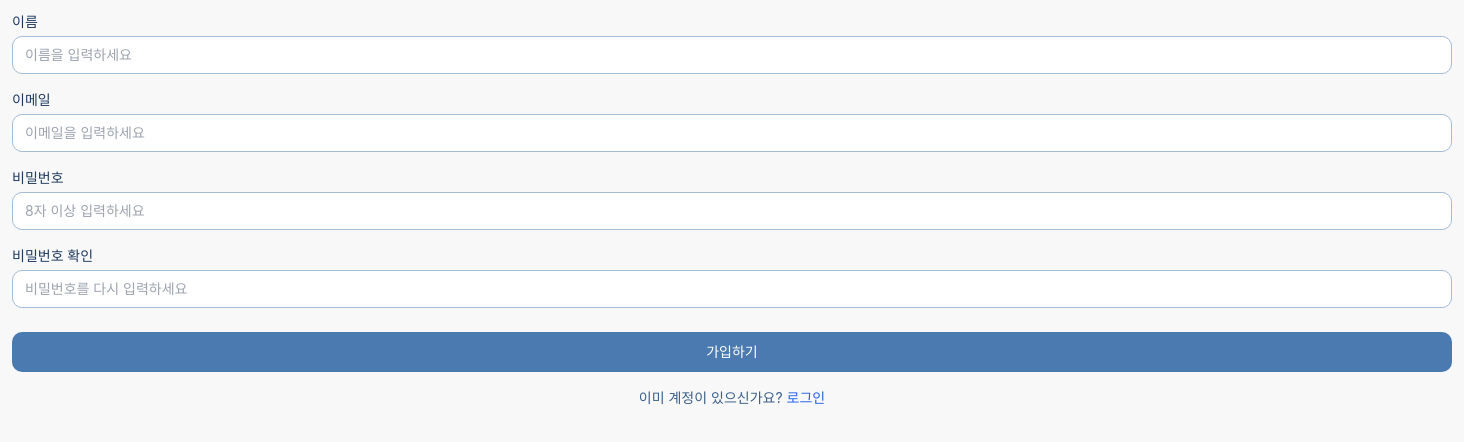
Test: SignupForm › 유효성 검증 › 이메일 형식이 잘못된 경우 오류 메시지를 표시한다
Type "홍길동" into the field labelled "이름".
click(732, 55); type("홍길동")  # box [12, 36, 1452, 74]
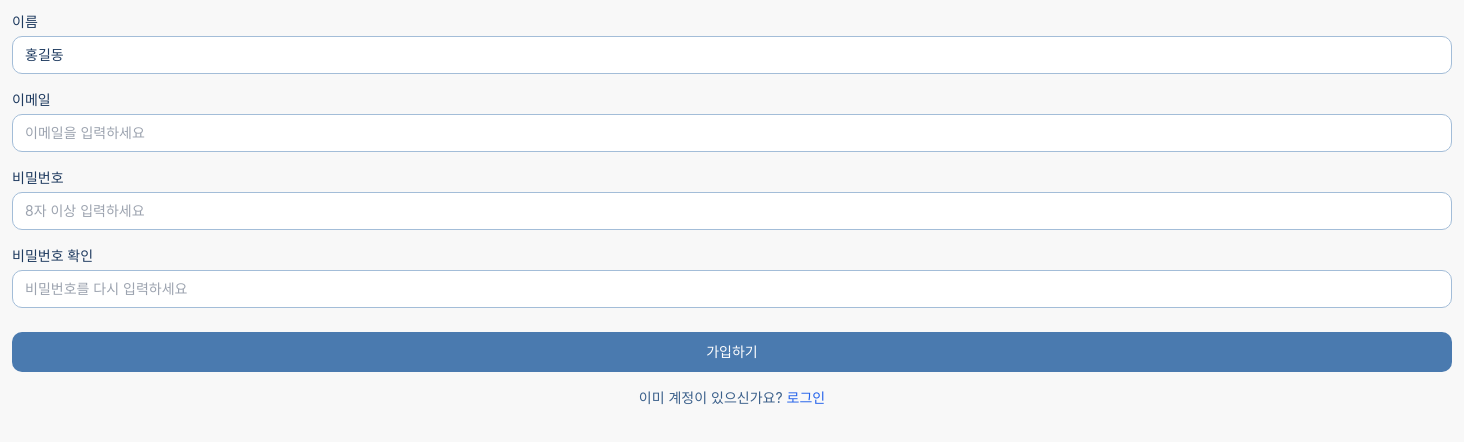
Type "not-an-email" into the field labelled "이메일".
click(732, 133); type("not-an-email")  # box [12, 114, 1452, 152]
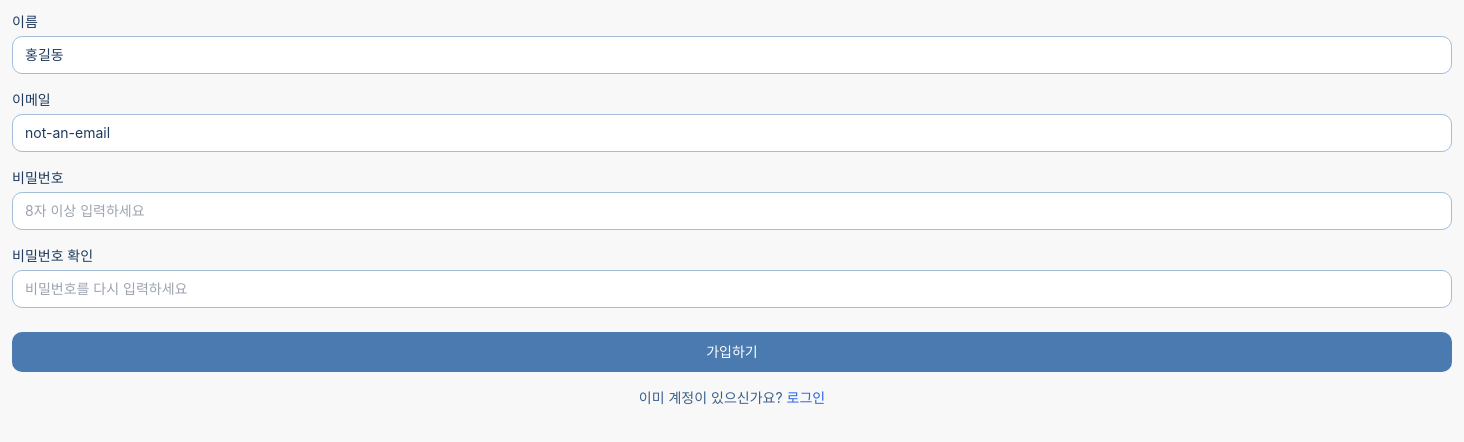
Type "password123" into the password field labelled "비밀번호".
click(732, 211); type("password123")  # box [12, 192, 1452, 230]
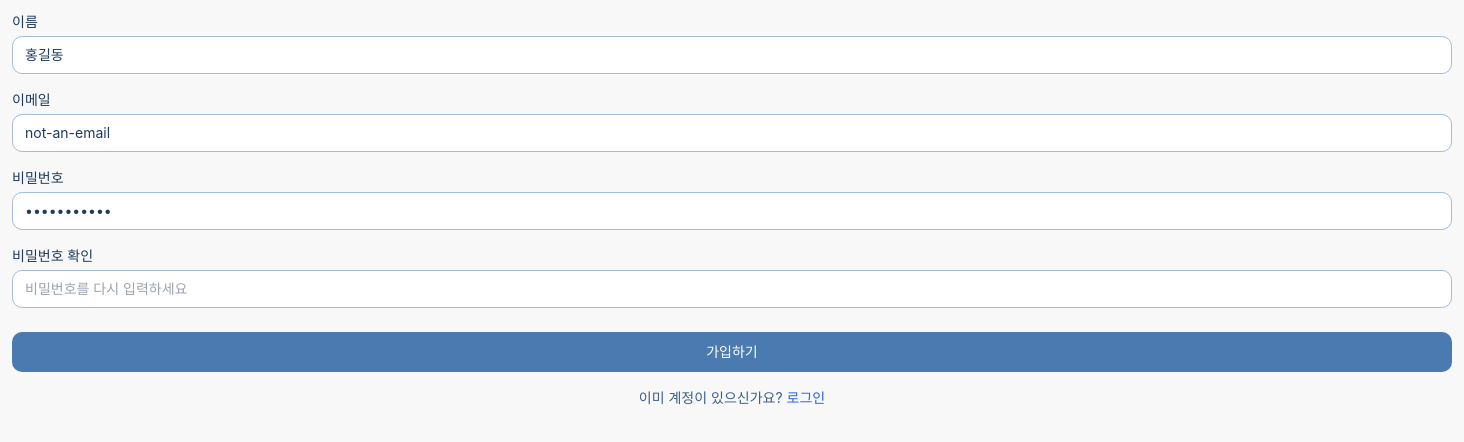
Type "password123" into the password field labelled "비밀번호 확인".
click(732, 289); type("password123")  # box [12, 270, 1452, 308]
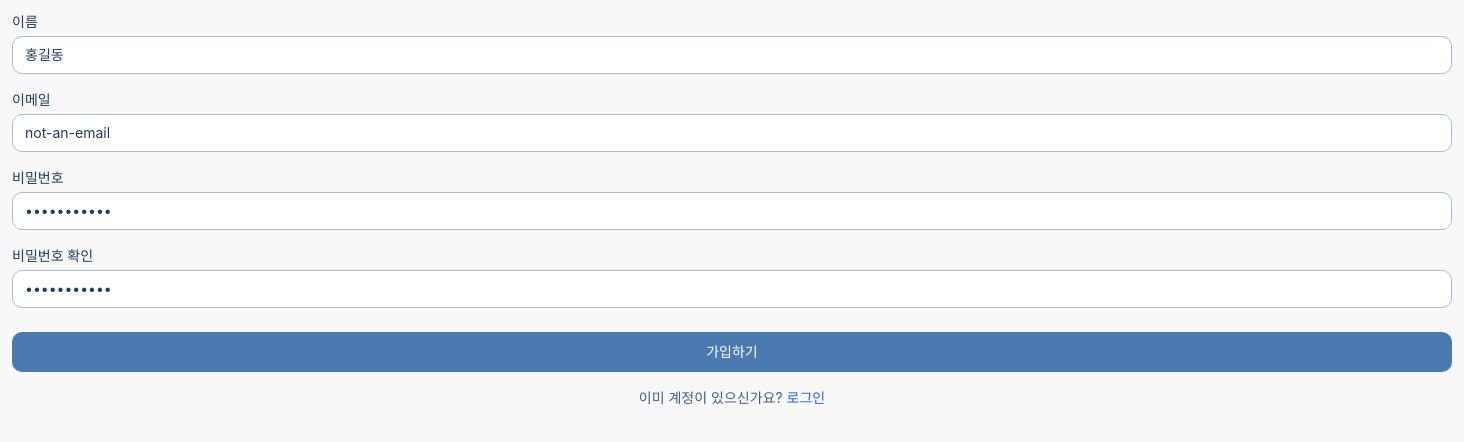
Click the button "가입하기".
click(732, 352)  # box [12, 332, 1452, 372]
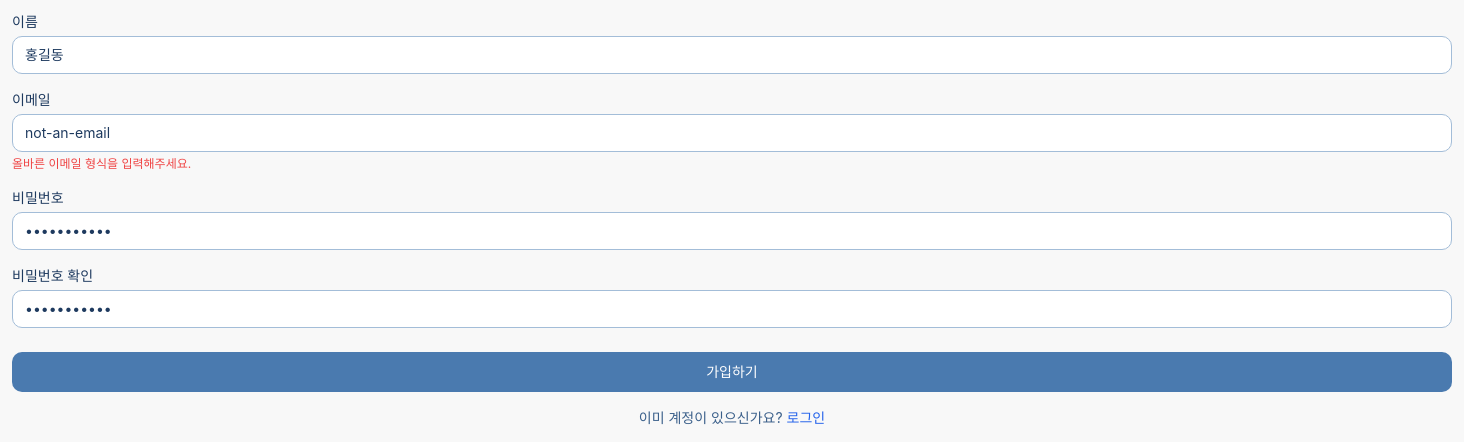
Expected: the text "올바른 이메일 형식을 입력해주세요." is shown, [12, 156, 191, 171]
